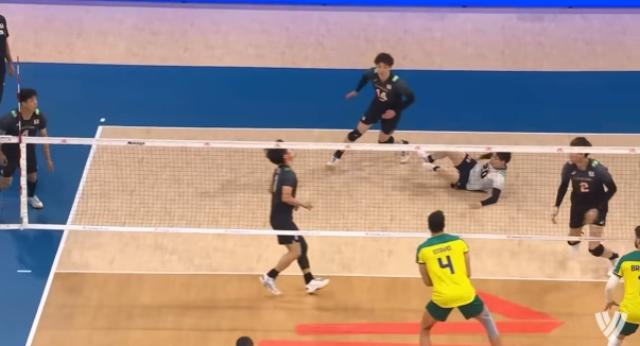Levantador: (244, 130, 338, 310), (592, 218, 640, 346)
Libero: (400, 126, 526, 210)
